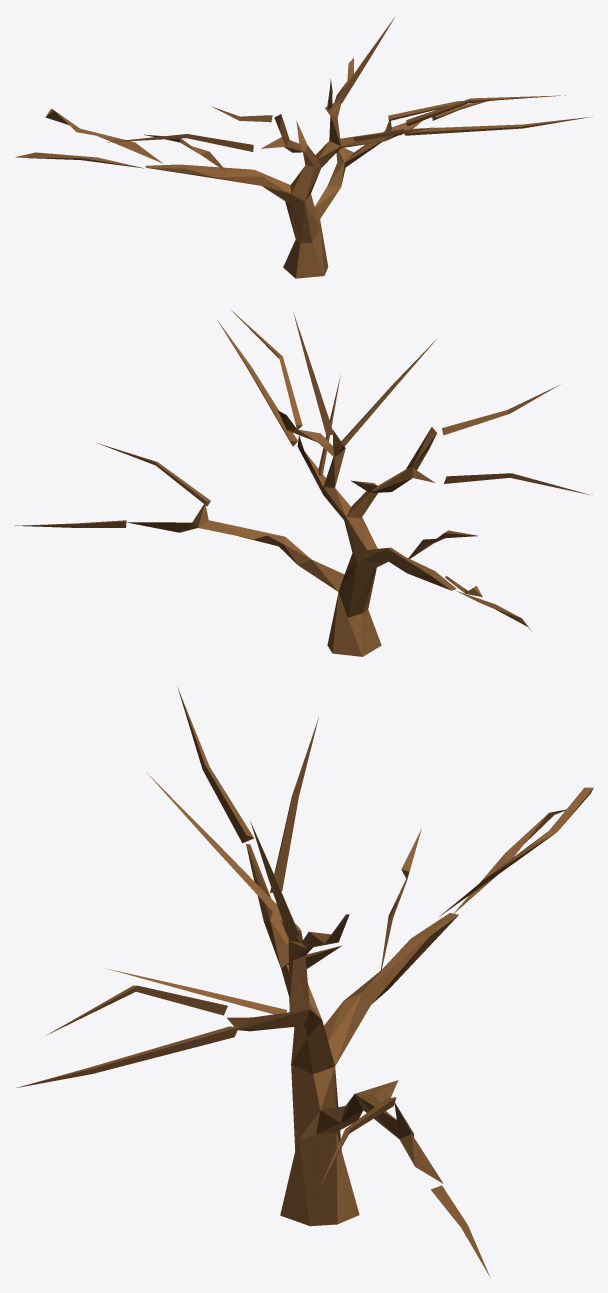
The model's file is elm_4_bare_far.glb.
3 renders of one model, top to bottom at view 1: azimuth 30°, elevation 25°; view 2: azimuth 150°, elevation 25°; view 3: azimuth 270°, elevation 25°, orthographic. The views are drawn at different scales.
Parts seen in each view (by area): view 1: elm_4_bare_far; view 2: elm_4_bare_far; view 3: elm_4_bare_far.
Part boxes in pixels (x1=…): elm_4_bare_far: x1=15, y1=16, x2=592, y2=278; elm_4_bare_far: x1=15, y1=310, x2=592, y2=656; elm_4_bare_far: x1=16, y1=687, x2=593, y2=1277.
Size of the model in its own units: 11 by 5.74 by 6.68.
